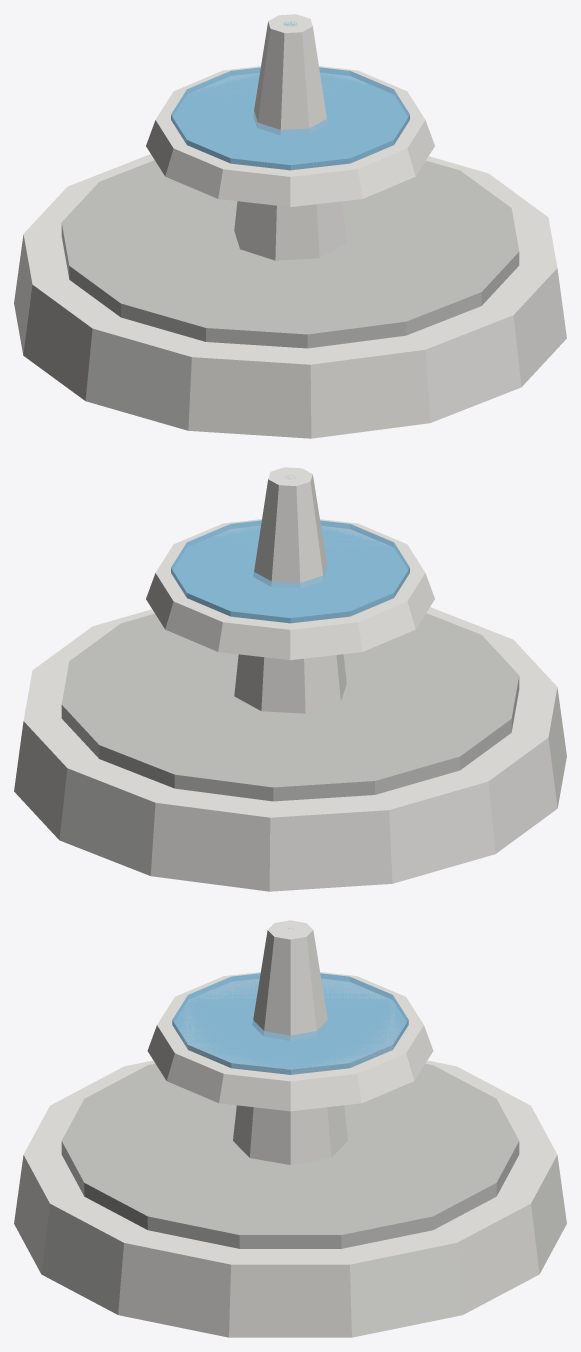
File: fountain.glb
3 views of the same model, one above another, from view 1: azimuth 30°, elevation 25°; view 2: azimuth 150°, elevation 25°; view 3: azimuth 270°, elevation 25° (orthographic).
Visible parts, largest first — view 1: fountain.001, water; view 2: fountain.001, water; view 3: fountain.001, water.
Part boxes in pixels (x1,y1,x2,y2): fountain.001: (14,14,566,438); water: (171,21,409,170); fountain.001: (14,467,566,891); water: (171,474,409,623); fountain.001: (14,920,566,1337); water: (172,928,408,1074).
Bounding box in the file's own units: 2.83 × 1.7 × 2.9.
